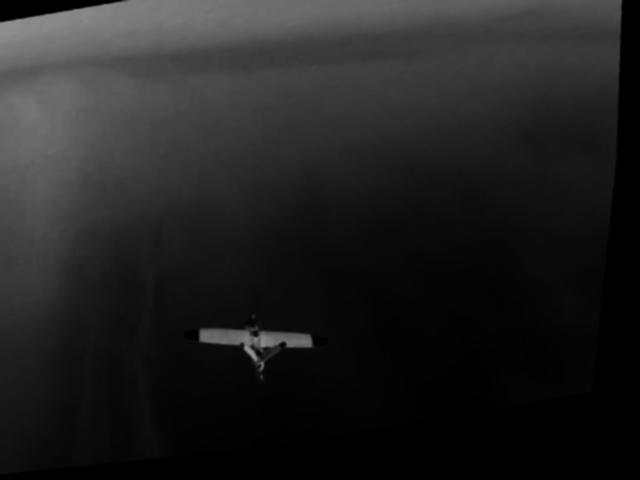hedef: (164, 293, 366, 416)
